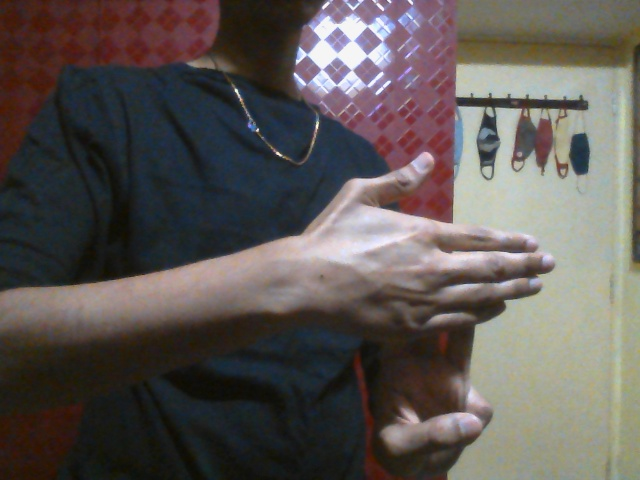M: (321, 152, 557, 472)
